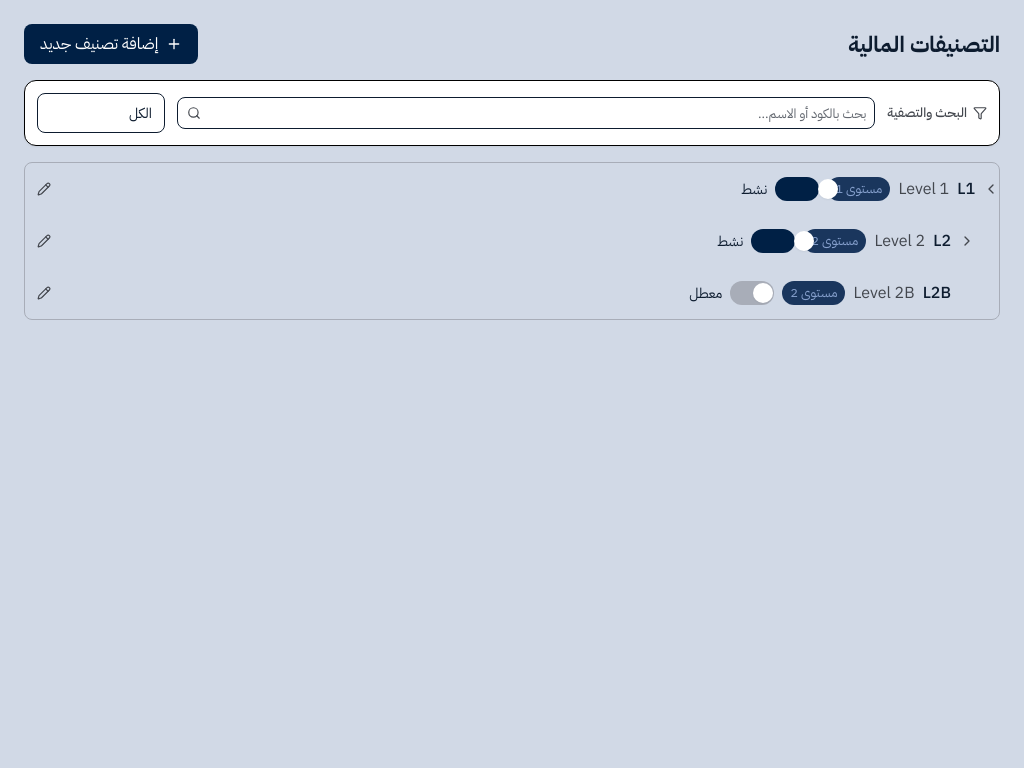
Test: T037: Create dialog fields, create with/without parent › create dialog has all required fields
Step 1. Click the button "إضافة تصنيف جديد" → point(111, 44), box [24,24,198,64]
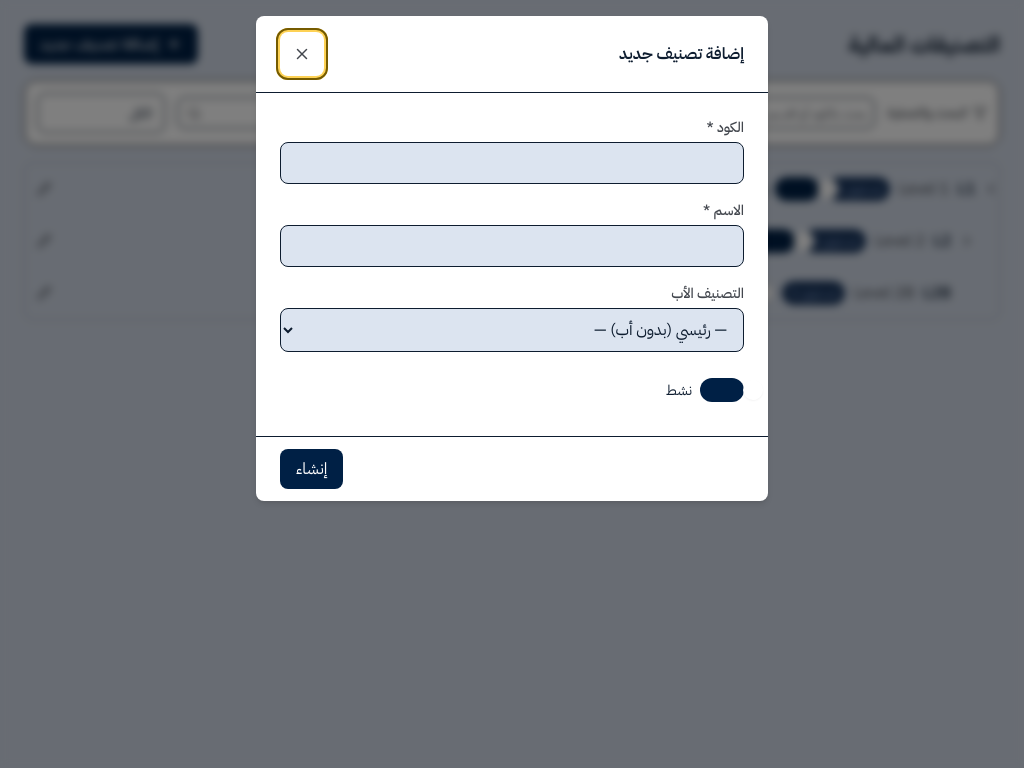
Result: the field labelled "الكود *" is shown at [280,142,744,184]
Result: the field labelled "الاسم *" is shown at [280,225,744,267]
Result: the dropdown labelled "التصنيف الأب" is shown at [280,308,744,352]
